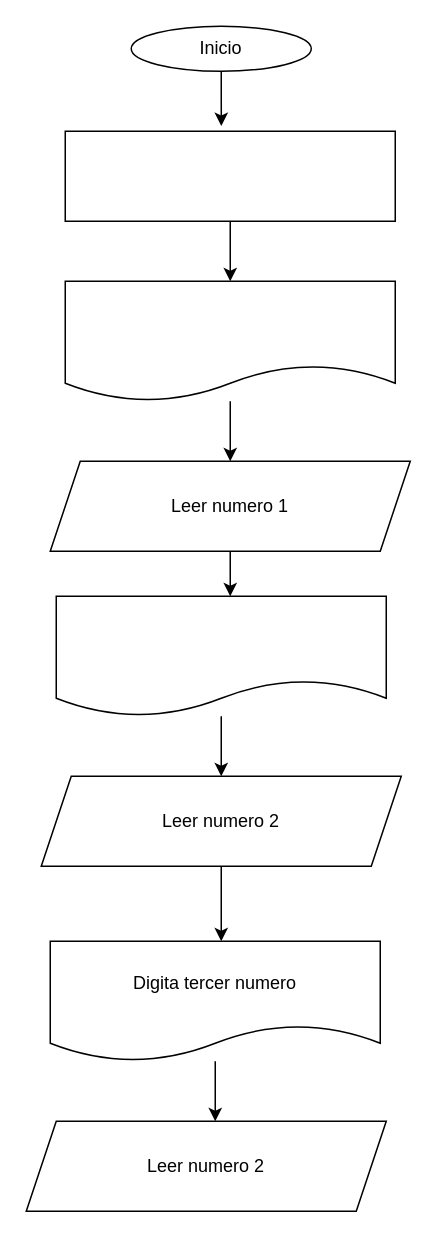
Some shapes in this 437 by 1238 pixel diagram are drawn without their labels. The box of each missing label's shape, as (x1, y1, x2, y2) in pixels:
Digita primer numero: (64, 280, 395, 401)
Digita segundo numero: (55, 595, 386, 716)
Int numero1, numero2, numero3: (64, 130, 395, 221)
